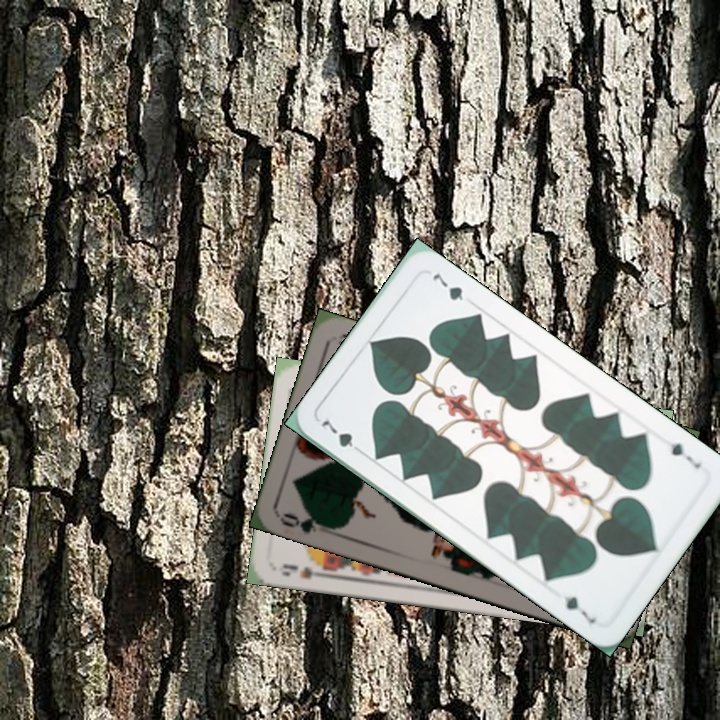G7: (317, 416, 367, 458), (666, 438, 704, 471)
GO: (276, 507, 336, 536)
S9: (277, 558, 333, 582)
